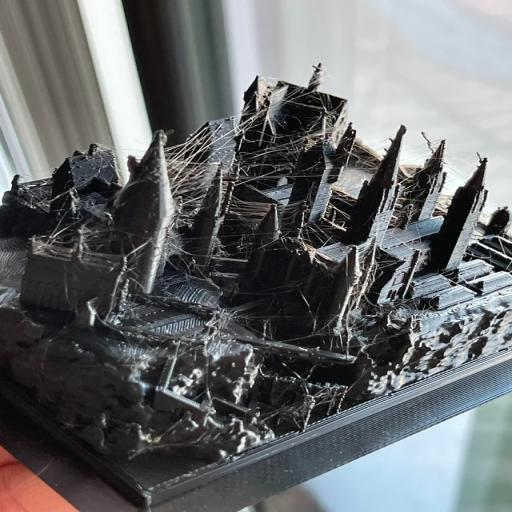stringing: (174, 133, 239, 214), (238, 129, 315, 191), (169, 125, 210, 184), (213, 110, 243, 148)
